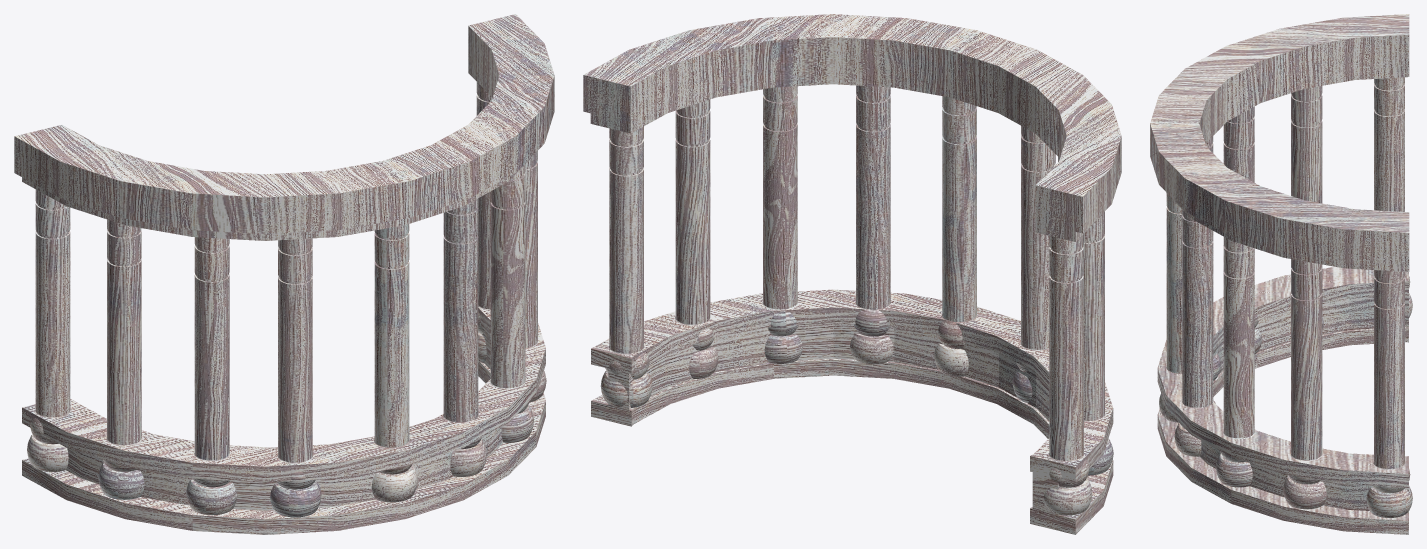
Rendered from witnessStand.obj.
The picture shows the model from 3 angles, left to right: view 1: azimuth 30°, elevation 25°; view 2: azimuth 150°, elevation 25°; view 3: azimuth 270°, elevation 25°; orthographic projection. The views are drawn at different scales.
Parts seen in each view (by area): view 1: Union20, Union21, Union24, Union25, Union22, Union26, Union27, Union23, Union29, Union28, Union6, Union7 (+6 smaller); view 2: Union20, Union21, Union28, Union27, Union6, Union22, Union29, Union25, Union26, Union23, Union10, Union4 (+7 smaller); view 3: Union20, Union21, Union28, Union29, Union6, Union27, Union22, Union23, Union25, Union24, Union4, Union3 (+2 smaller).
Boxes of the visible parts, x1,y1,x2,y2 form: Union20: (14, 14, 554, 240); Union21: (22, 306, 545, 534); Union24: (194, 237, 229, 460); Union25: (374, 224, 409, 447); Union22: (35, 189, 70, 417); Union26: (278, 238, 312, 462); Union27: (443, 198, 478, 422); Union23: (107, 219, 141, 445); Union29: (490, 165, 525, 388); Union28: (525, 151, 537, 347); Union6: (476, 82, 491, 309); Union7: (270, 481, 321, 517); Union20: (583, 14, 1121, 241); Union21: (591, 289, 1113, 534); Union28: (675, 99, 710, 324); Union27: (856, 85, 890, 309); Union6: (609, 126, 643, 353); Union22: (1049, 234, 1083, 460); Union29: (763, 86, 797, 309); Union25: (942, 96, 976, 322); Union26: (1021, 126, 1055, 349); Union23: (1083, 211, 1104, 420); Union10: (1043, 478, 1092, 515); Union4: (600, 370, 652, 407); Union20: (1150, 14, 1409, 271); Union21: (1157, 266, 1408, 534); Union28: (1291, 259, 1322, 460); Union29: (1223, 237, 1254, 438); Union6: (1374, 270, 1404, 468); Union27: (1182, 210, 1213, 407); Union22: (1374, 77, 1404, 211); Union23: (1291, 86, 1322, 268); Union25: (1166, 194, 1182, 373); Union24: (1223, 106, 1254, 271); Union4: (1366, 486, 1412, 517); Union3: (1283, 475, 1326, 509).
Bounding box in the file's own units: 5.38 × 3.5 × 2.73.
Materials: 1 (1 with a texture image).
